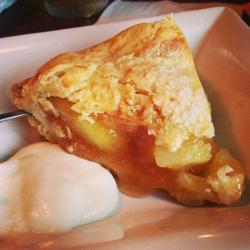apple_pie: (15, 22, 246, 204)
icecream: (1, 140, 125, 229)
